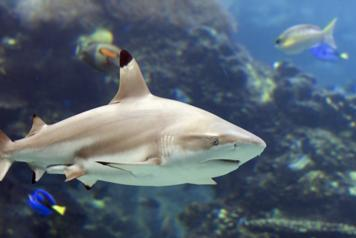Shark -Selachimorpha-: (0, 48, 273, 187)
